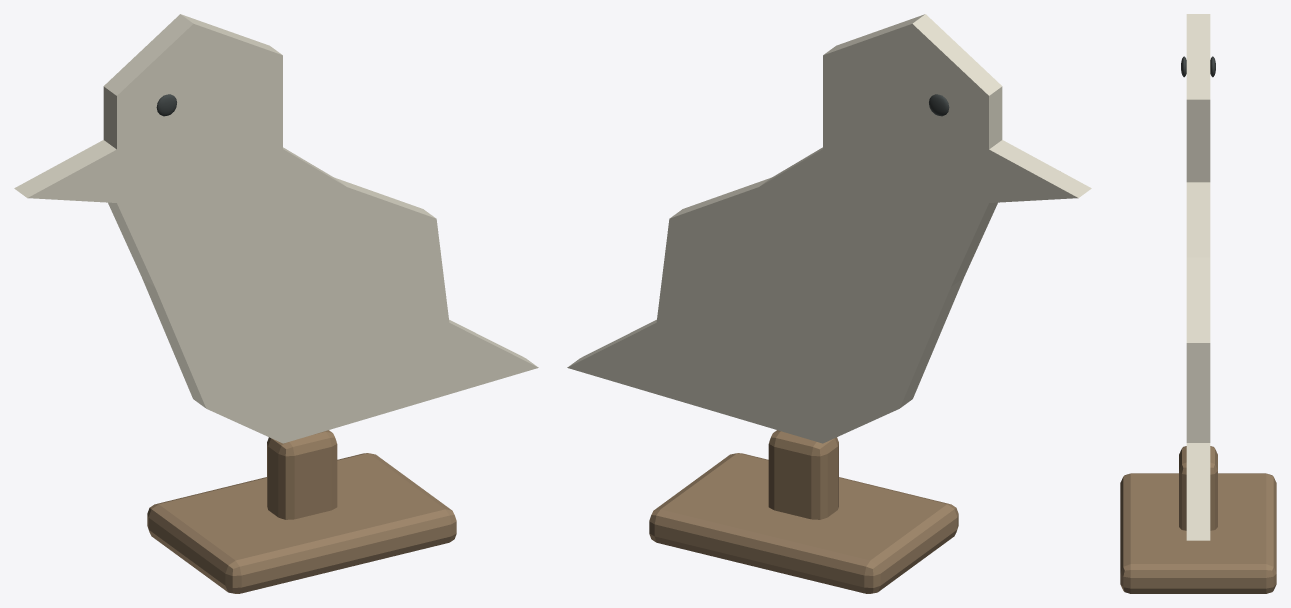
The model's file is Pigeon.fbx.
The picture shows the model from 3 angles, left to right: view 1: azimuth 30°, elevation 25°; view 2: azimuth 150°, elevation 25°; view 3: azimuth 270°, elevation 25°; orthographic projection. The views are drawn at different scales.
Visible parts, largest first — view 1: Pigeon_Paper, Pigeon_Timber, Pigeon_Cork; view 2: Pigeon_Paper, Pigeon_Timber, Pigeon_Cork; view 3: Pigeon_Timber, Pigeon_Paper, Pigeon_Cork.
Part boxes in pixels (x1,y1,x2,y2): Pigeon_Paper: (14, 14, 538, 443); Pigeon_Timber: (147, 453, 456, 593); Pigeon_Cork: (267, 430, 337, 519); Pigeon_Paper: (567, 14, 1091, 443); Pigeon_Timber: (649, 453, 958, 593); Pigeon_Cork: (768, 430, 838, 519); Pigeon_Timber: (1120, 473, 1276, 593); Pigeon_Paper: (1186, 14, 1210, 540); Pigeon_Cork: (1179, 446, 1217, 530).
Size of the model in its own units: 40 by 41.05 by 12.
